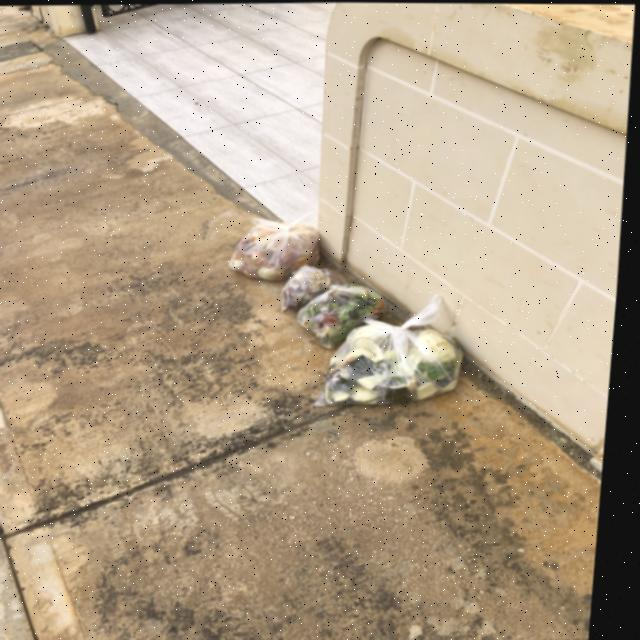Organic Waste -White Bag-: (315, 290, 479, 410), (301, 280, 398, 349), (229, 214, 326, 282), (282, 263, 351, 316)
